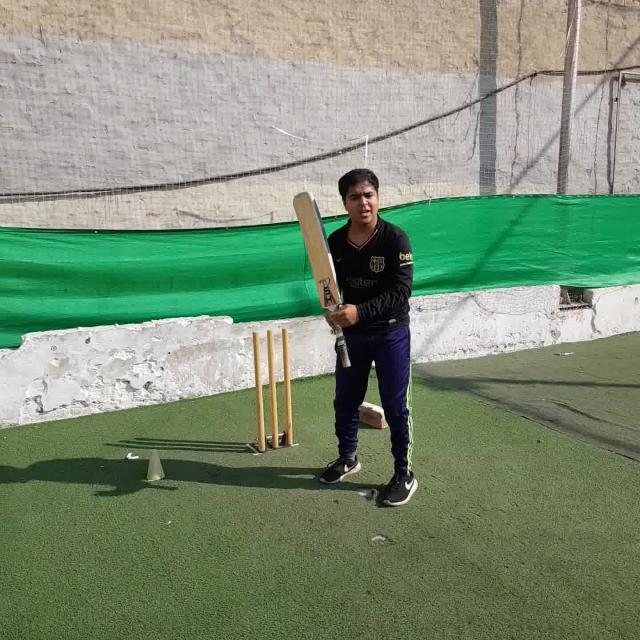bat: (294, 191, 351, 368)
